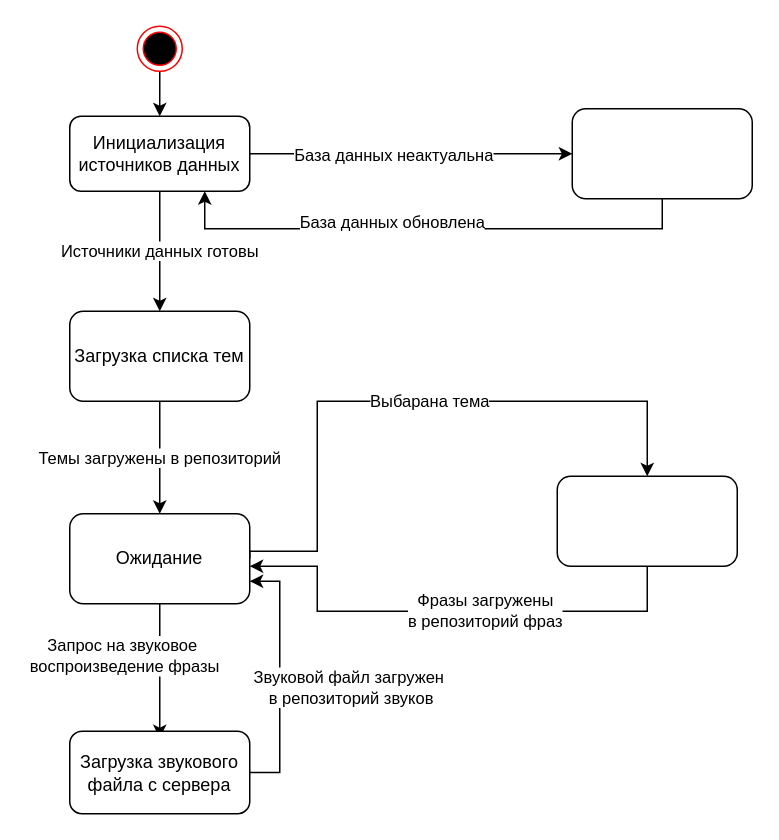
The diagram is 779 pixels wide and 840 high, and some of its shapes have lost their labels. Each missing label, with the box of its shape:
Загрузка списка фраз для темы: (556, 475, 737, 566)
Обновление базы даных: (571, 107, 752, 199)
